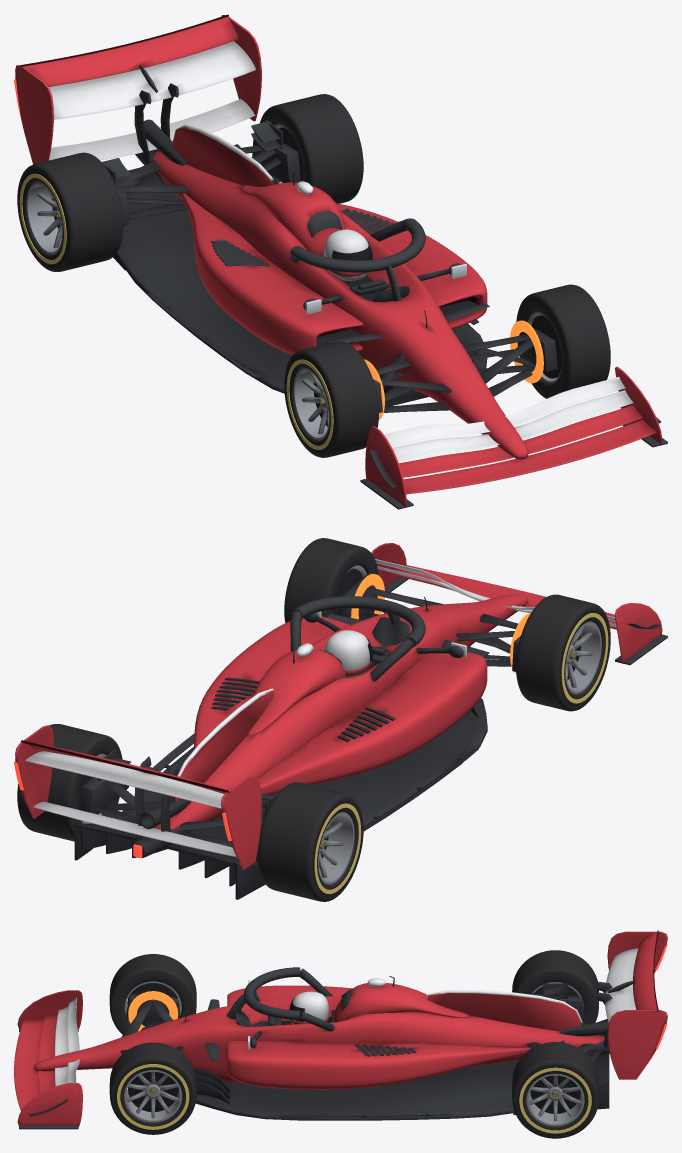
The model's file is f1car-2026.glb.
The picture shows the model from 3 angles, top to bottom: view 1: azimuth 30°, elevation 25°; view 2: azimuth 150°, elevation 25°; view 3: azimuth 270°, elevation 25°; orthographic projection. The views are drawn at different scales.
Parts seen in each view (by area): view 1: chassis, sidepods, floor, tyre_rl, rear_wing_main, tyre_rr, front_wing_flaps, tyre_fl, tyre_fr, rear_wing_flap, front_wing_main, rear_wing_endplates (+21 smaller); view 2: sidepods, chassis, floor, tyre_rl, tyre_fl, rear_wing_endplates, tyre_rr, tyre_fr, airbox, diffuser, rear_wing_main, halo (+20 smaller); view 3: chassis, floor, sidepods, rear_wing_endplates, tyre_rr, tyre_fr, shark_fin, front_wing_endplates, tyre_fl, tyre_rl, airbox, rim_rr (+22 smaller).
Boxes of the visible parts, box(x1,y1,x2,y2) form: chassis: box(153, 151, 528, 459); sidepods: box(180, 193, 487, 354); floor: box(116, 144, 487, 406); tyre_rl: box(17, 152, 123, 271); rear_wing_main: box(48, 41, 255, 119); tyre_rr: box(260, 94, 363, 203); front_wing_flaps: box(371, 377, 633, 461); tyre_fl: box(284, 341, 378, 457); tyre_fr: box(516, 284, 610, 398); rear_wing_flap: box(21, 14, 238, 86); front_wing_main: box(404, 419, 656, 494); rear_wing_endplates: box(15, 15, 261, 164); sidepods: box(193, 616, 487, 809); chassis: box(154, 594, 528, 831); floor: box(74, 698, 487, 865); tyre_rl: box(257, 782, 363, 901); tyre_fl: box(516, 594, 610, 711); rear_wing_endplates: box(15, 725, 261, 869); tyre_rr: box(17, 724, 122, 841); tyre_fr: box(284, 538, 378, 622); airbox: box(248, 648, 345, 735); diffuser: box(74, 706, 478, 899); rear_wing_main: box(25, 751, 224, 808); halo: box(290, 596, 425, 681); chassis: box(33, 995, 605, 1083); floor: box(195, 1018, 609, 1120); sidepods: box(227, 985, 530, 1089); rear_wing_endplates: box(607, 931, 667, 1079); tyre_rr: box(512, 1042, 598, 1138); tyre_fr: box(109, 1042, 196, 1134); shark_fin: box(428, 993, 580, 1031); front_wing_endplates: box(17, 990, 82, 1126); tyre_fl: box(109, 954, 196, 1034); tyre_rl: box(512, 950, 598, 1024); airbox: box(333, 983, 468, 1022); rim_rr: box(526, 1073, 584, 1126).
Size of the model in its own units: 2.09 by 0.9839 by 5.12.
